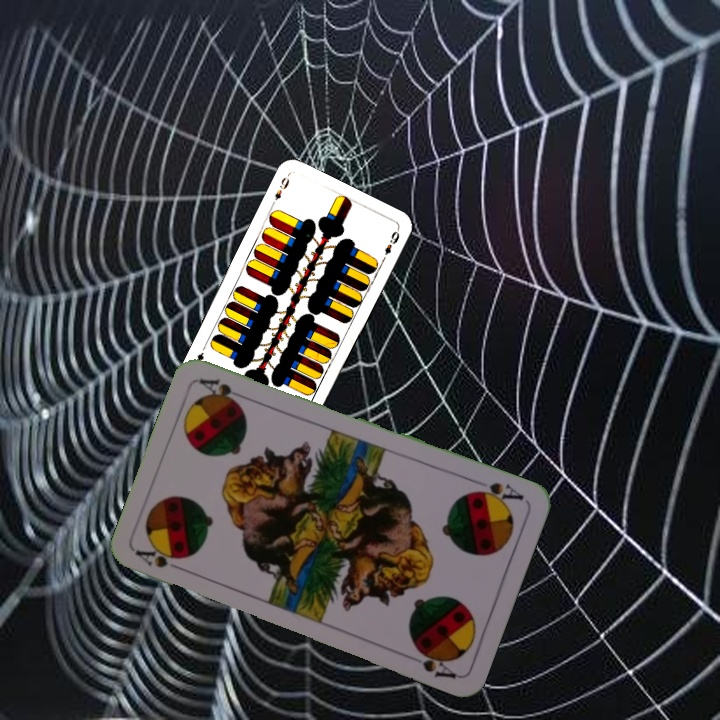E9: (267, 171, 292, 209)
SA: (466, 475, 527, 509), (132, 544, 190, 575)
